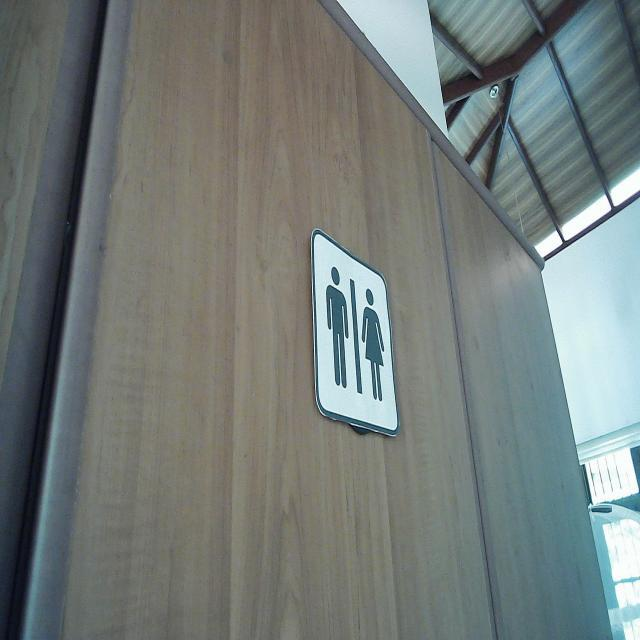restroom: (308, 225, 402, 442)
